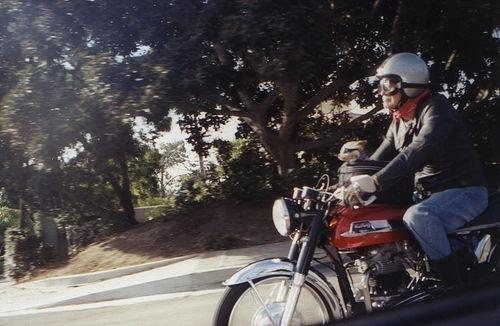motorcycle: (211, 168, 499, 324)
